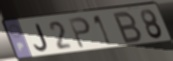1: (93, 14, 113, 47)
2: (50, 20, 75, 52)
8: (140, 8, 164, 41)
B: (112, 10, 144, 45)
J: (33, 22, 50, 53)
P: (67, 16, 93, 50)
